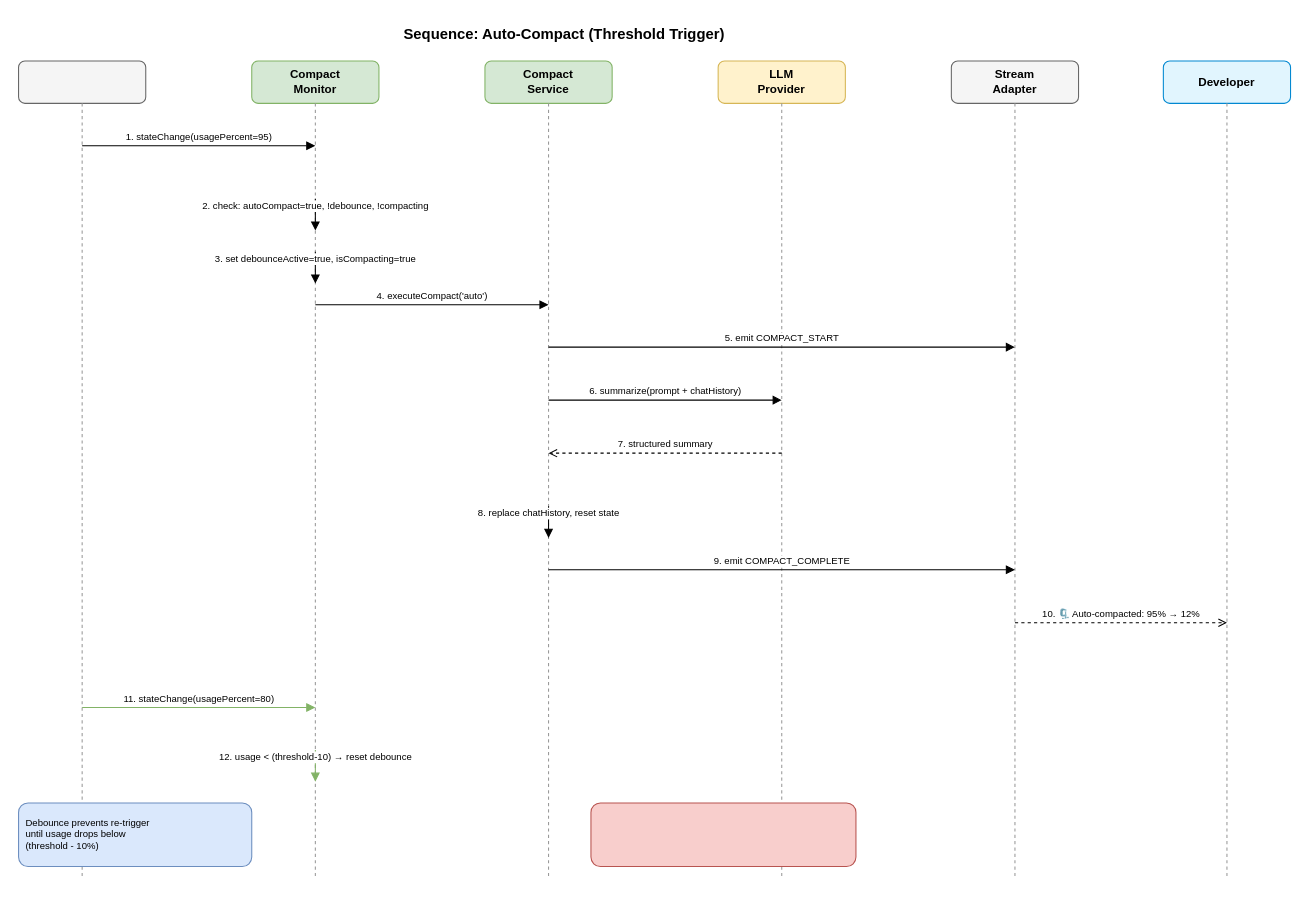
Image size: 1309x897. Some labels were removed from this diagram. Here are the shapes that lost their labels. From the top down, the centre of each, then its label:
the point at 81,81: IdeContext Manager
the point at 723,834: ⚠️ If step 6-7 fail: → Fallback: truncate oldest 50% → Notify user with warning
